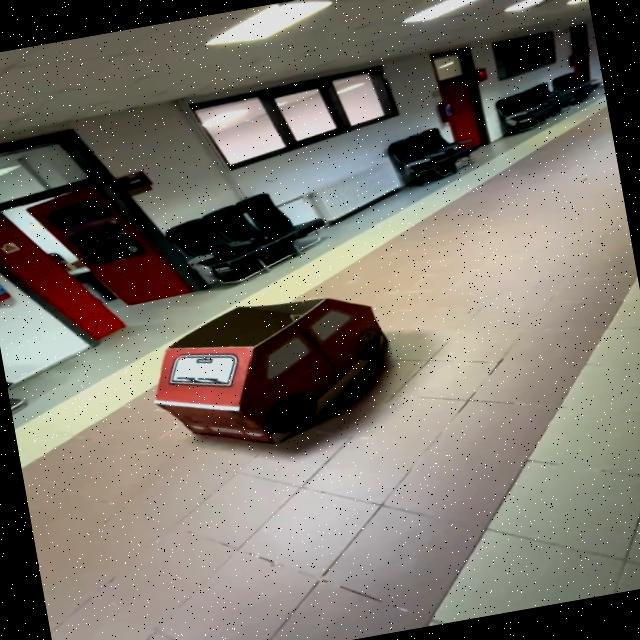red_car: (122, 250, 430, 482)
